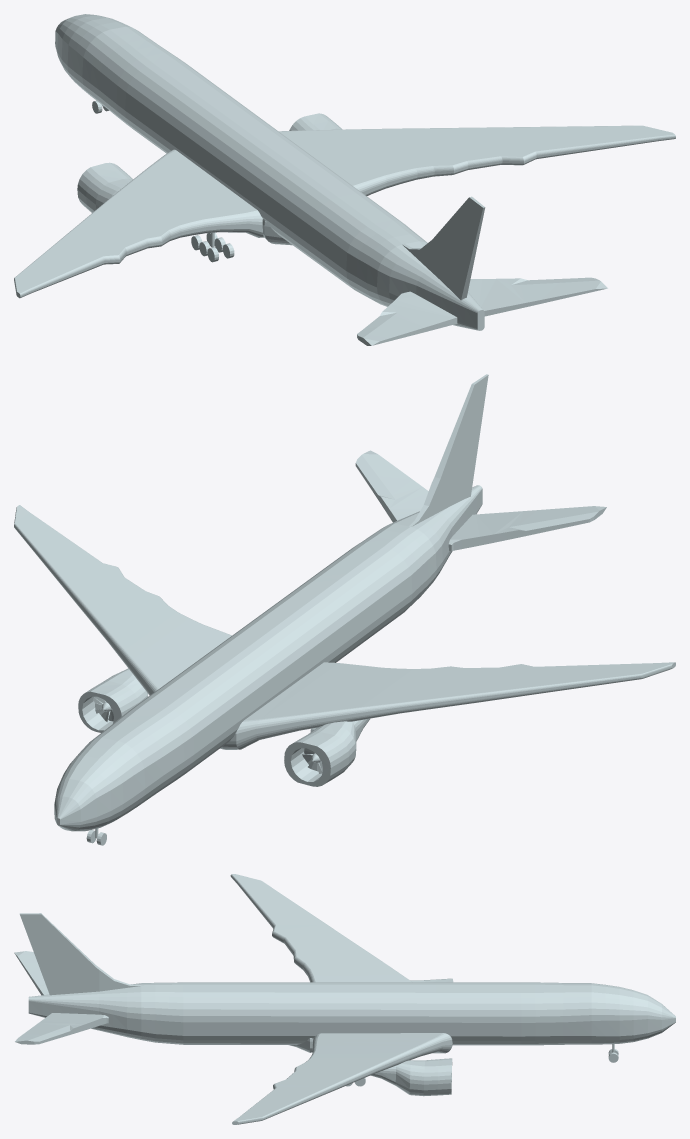
3 renders of one model, top to bottom at view 1: azimuth 30°, elevation 25°; view 2: azimuth 150°, elevation 25°; view 3: azimuth 270°, elevation 25°, orthographic. The views are drawn at different scales.
Parts seen in each view (by area): view 1: Aircraft visual hull, Landing gear; view 2: Aircraft visual hull; view 3: Aircraft visual hull.
Part boxes in pixels (<box>): Aircraft visual hull: <box>14,14,675,345</box>; Landing gear: <box>92,100,234,262</box>; Aircraft visual hull: <box>14,374,675,831</box>; Aircraft visual hull: <box>14,874,675,1124</box>.
Size of the model in its own units: 65.16 by 17.9 by 74.13.
